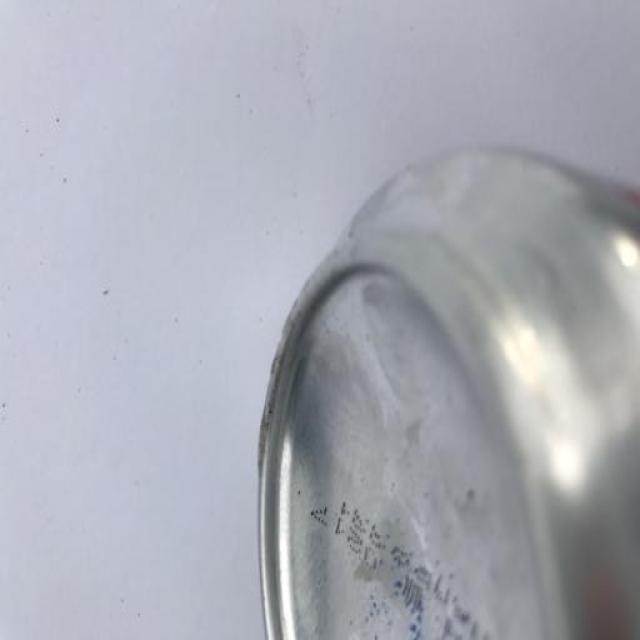metel: (235, 127, 640, 640)
